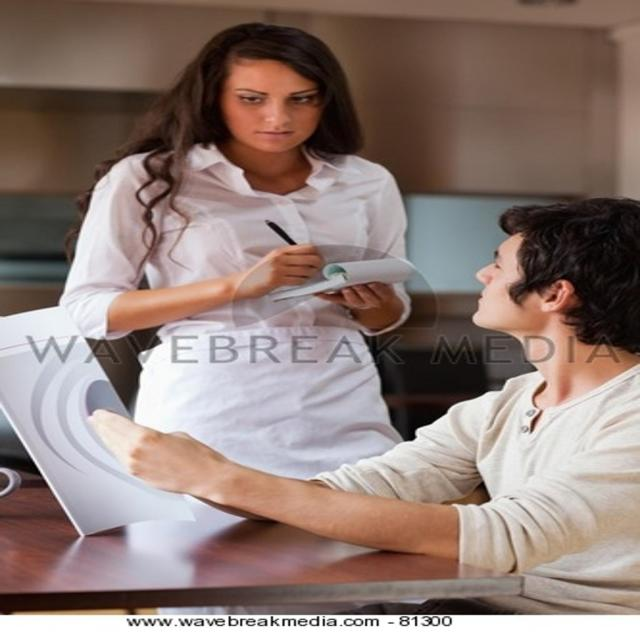nomask: (214, 54, 324, 152), (464, 230, 574, 327)
